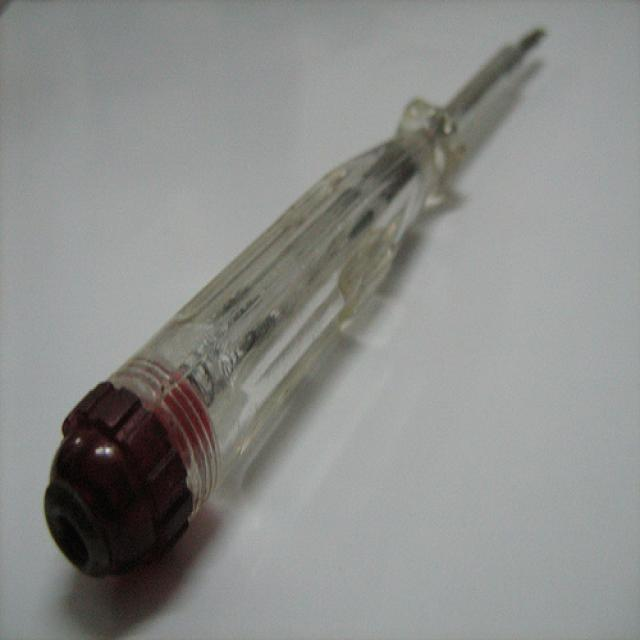screw_driver: (45, 24, 544, 576)
